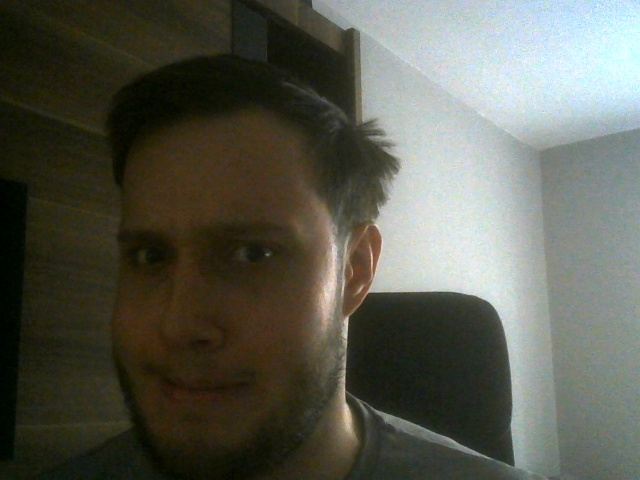angry: (106, 55, 383, 477)
